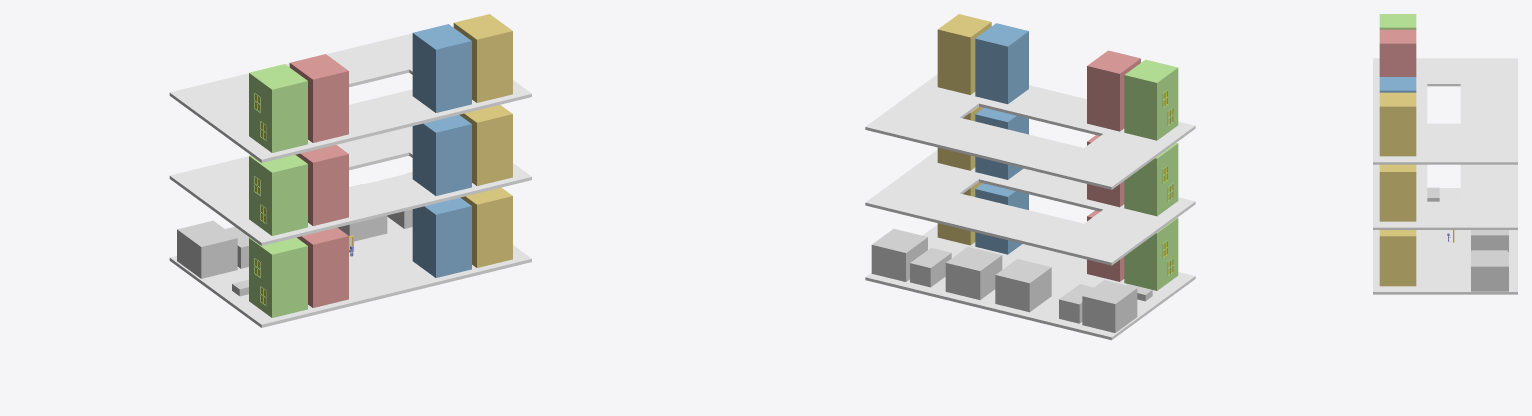
Rendered from floor_souzou.glb.
The picture shows the model from 3 angles, left to right: view 1: azimuth 30°, elevation 25°; view 2: azimuth 150°, elevation 25°; view 3: azimuth 270°, elevation 25°; orthographic projection. The views are drawn at different scales.
Visible parts, largest first — view 1: 3F, 2F, 1F, 3-3, 3-1, 2-1, 2-3, 1-1, 1-3, 3-4, 3-2, 2-4 (+5 smaller); view 2: 3F, 2F, 1F, 3-1, 3-3, 3-4, 3-2, 2-1, 1-1, 立方体, 立方体.003, 立方体.001 (+9 smaller); view 3: 3F, 2F, 1F, 3-4, 2-4, 1-4, 3-2, 立方体.004, 立方体.001, 3-3, 3-1, 立方体.007.
Boxes of the visible parts, <box> form: 3F: <box>169,33,531,162</box>; 2F: <box>169,126,531,245</box>; 1F: <box>169,217,531,327</box>; 3-3: <box>412,24,471,112</box>; 3-1: <box>249,64,307,152</box>; 2-1: <box>249,155,307,235</box>; 2-3: <box>412,115,471,195</box>; 1-1: <box>249,237,307,317</box>; 1-3: <box>412,197,471,277</box>; 3-4: <box>453,14,512,102</box>; 3-2: <box>289,54,348,142</box>; 2-4: <box>459,105,512,185</box>; 3F: <box>865,74,1195,189</box>; 2F: <box>865,150,1195,265</box>; 1F: <box>865,224,1195,340</box>; 3-1: <box>1124,59,1178,140</box>; 3-3: <box>975,23,1028,104</box>; 3-4: <box>937,14,991,94</box>; 3-2: <box>1087,50,1140,131</box>; 2-1: <box>1124,143,1178,216</box>; 1-1: <box>1124,217,1178,290</box>; 立方体: <box>995,259,1051,312</box>; 立方体.003: <box>1082,280,1137,332</box>; 立方体.001: <box>945,247,1002,299</box>; 3F: <box>1373,58,1517,164</box>; 2F: <box>1373,123,1517,229</box>; 1F: <box>1373,188,1517,294</box>; 3-4: <box>1379,92,1416,156</box>; 2-4: <box>1379,164,1416,221</box>; 1-4: <box>1379,230,1416,286</box>; 3-2: <box>1379,29,1416,76</box>; 立方体.004: <box>1471,252,1508,291</box>; 立方体.001: <box>1471,230,1508,251</box>; 3-3: <box>1379,77,1416,92</box>; 3-1: <box>1379,14,1416,29</box>; 立方体.007: <box>1427,187,1439,201</box>.
Bounding box in the file's own units: 22.39 × 9.55 × 5.24.
